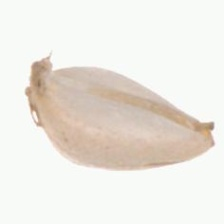L1: (23, 57, 52, 128), (194, 117, 218, 151)
L2: (25, 57, 216, 171)
